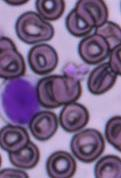L: (1, 74, 42, 128)
